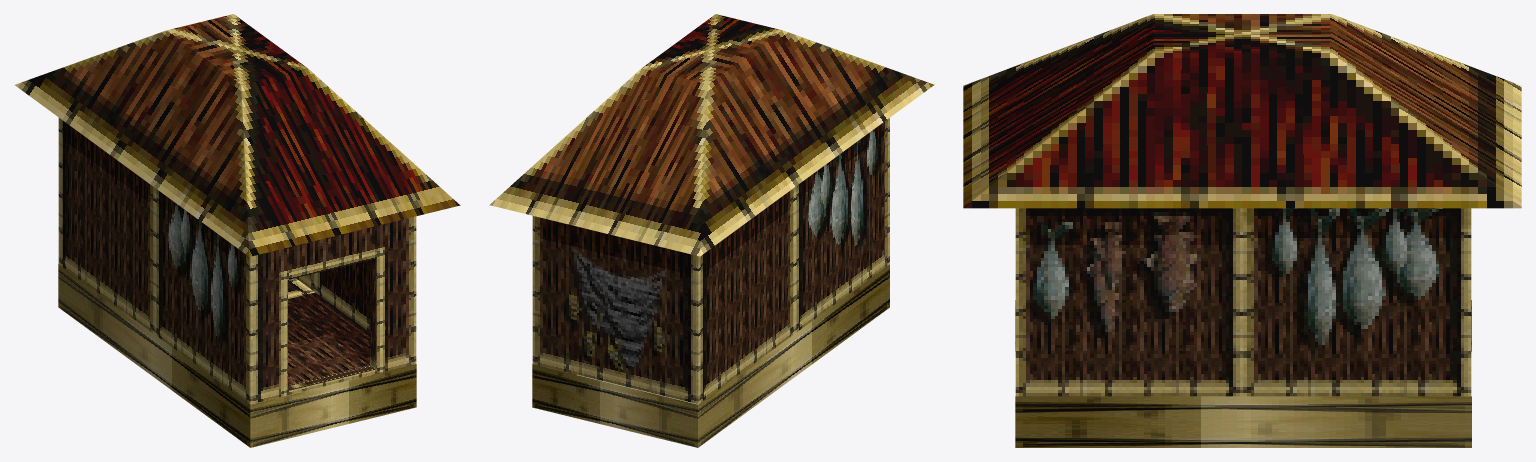
The model's file is Hut4.fbx.
3 views of the same model, side by side, from view 1: azimuth 30°, elevation 25°; view 2: azimuth 150°, elevation 25°; view 3: azimuth 270°, elevation 25° (orthographic). The views are drawn at different scales.
Parts seen in each view (by area): view 1: HUT4; view 2: HUT4; view 3: HUT4.
Boxes of the visible parts, left/top/right/bottom form: HUT4: left=15, top=14, right=460, bottom=447; HUT4: left=489, top=14, right=934, bottom=447; HUT4: left=963, top=14, right=1521, bottom=447.
Bounding box in the file's own units: 25.43 × 35.45 × 49.02.
